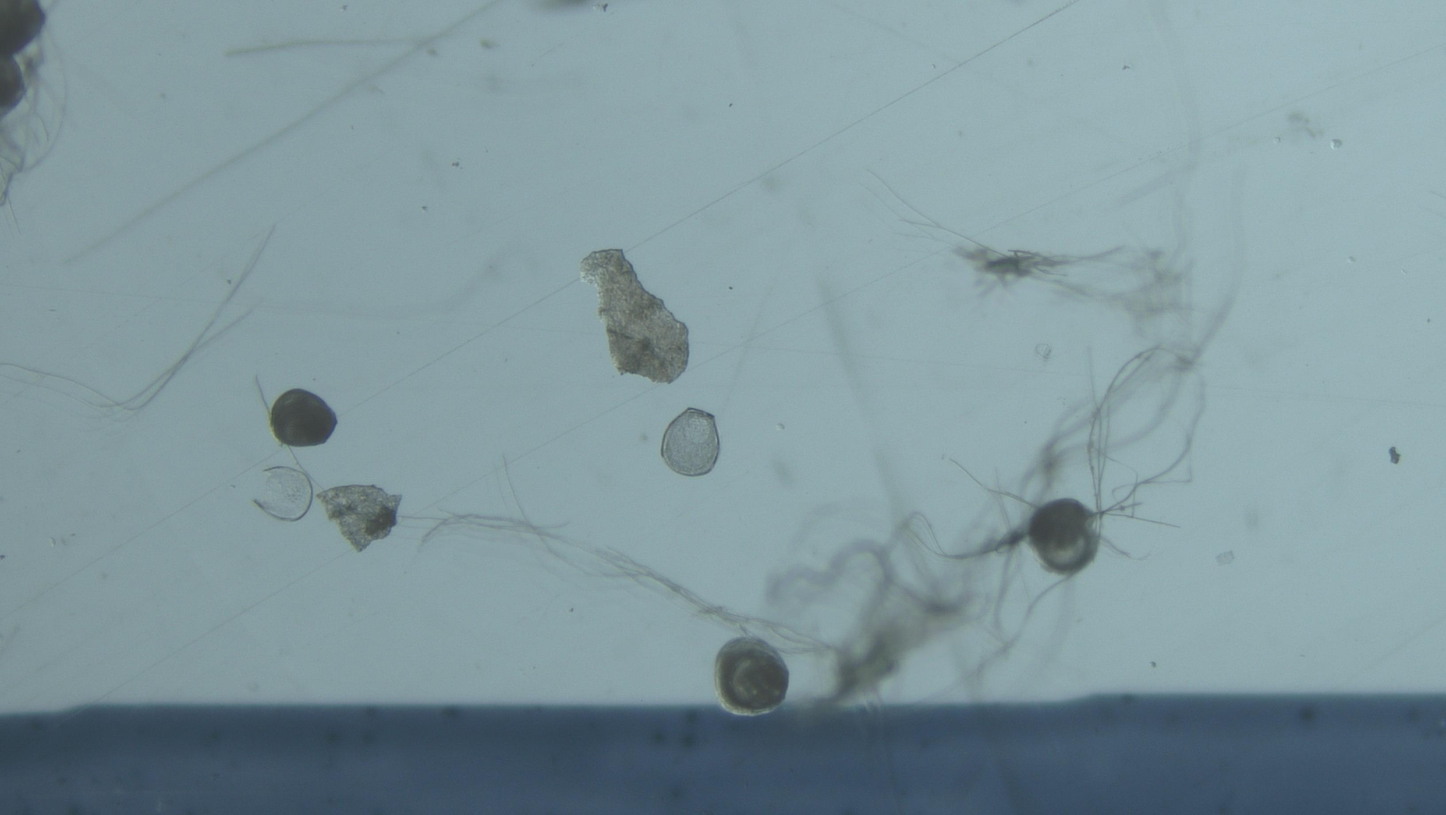dead: (661, 408, 720, 477), (253, 466, 312, 521)
live: (714, 637, 789, 716), (1028, 499, 1100, 576), (269, 390, 337, 447)
